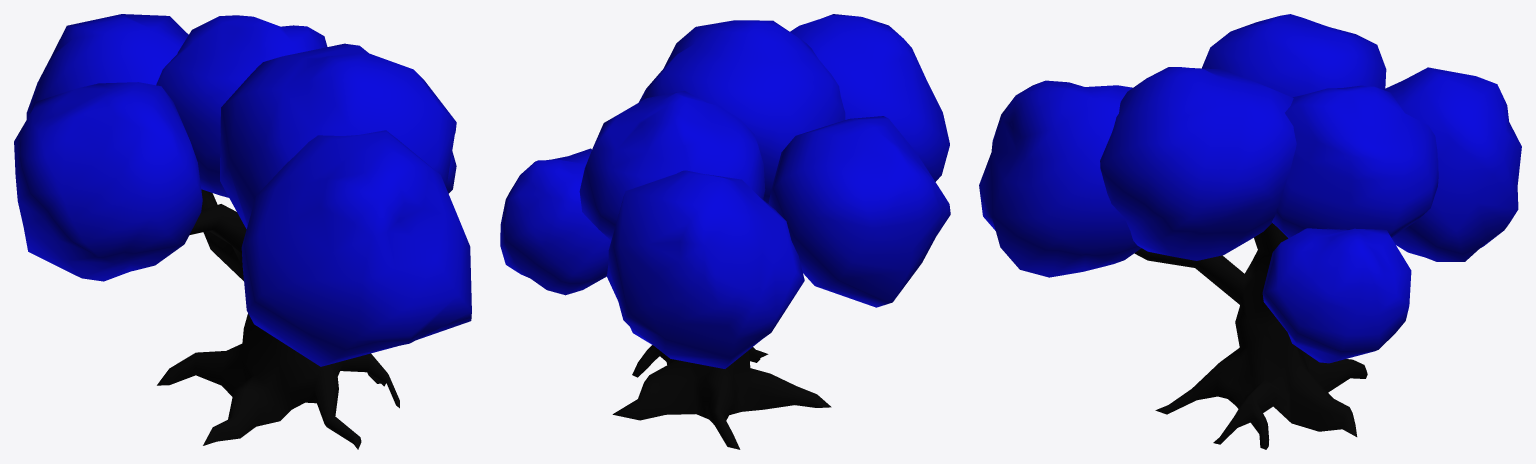
Rendered from Tree_v2.fbx.
The picture shows the model from 3 angles, left to right: view 1: azimuth 30°, elevation 25°; view 2: azimuth 150°, elevation 25°; view 3: azimuth 270°, elevation 25°; orthographic projection. The views are drawn at different scales.
Visible parts, largest first — view 1: Tree_geo; view 2: Tree_geo; view 3: Tree_geo.
Boxes of the visible parts, <box> form: Tree_geo: <box>14,14,471,449</box>; Tree_geo: <box>500,14,950,449</box>; Tree_geo: <box>979,14,1521,449</box>.
Size of the model in its own units: 596 by 484 by 698.
